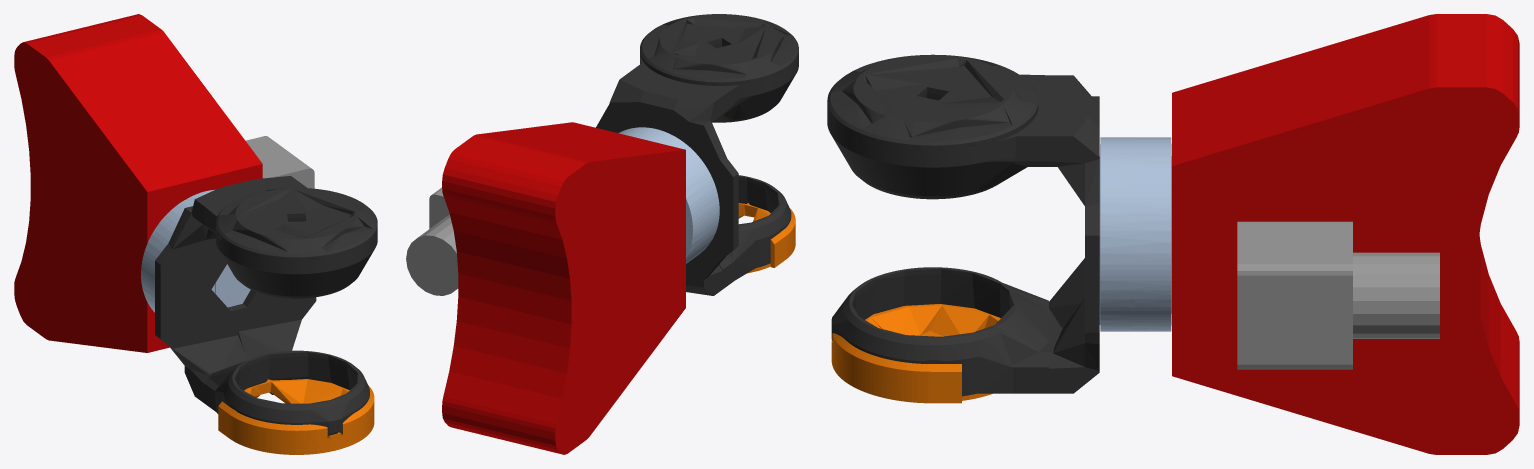
The model's file is RARM_LINK7_mesh.dae.
3 views of the same model, side by side, from view 1: azimuth 30°, elevation 25°; view 2: azimuth 150°, elevation 25°; view 3: azimuth 270°, elevation 25° (orthographic). The views are drawn at different scales.
Parts seen in each view (by area): view 1: RARM_LINK7 (×9); view 2: RARM_LINK7 (×9); view 3: RARM_LINK7 (×9).
Boxes of the visible parts, x1,y1,x2,y2 form: RARM_LINK7 (×9): (14,14,377,454); RARM_LINK7 (×9): (406,14,798,454); RARM_LINK7 (×9): (827,14,1519,454).
Size of the model in its own units: 0.1105 by 0.14 by 0.239.
